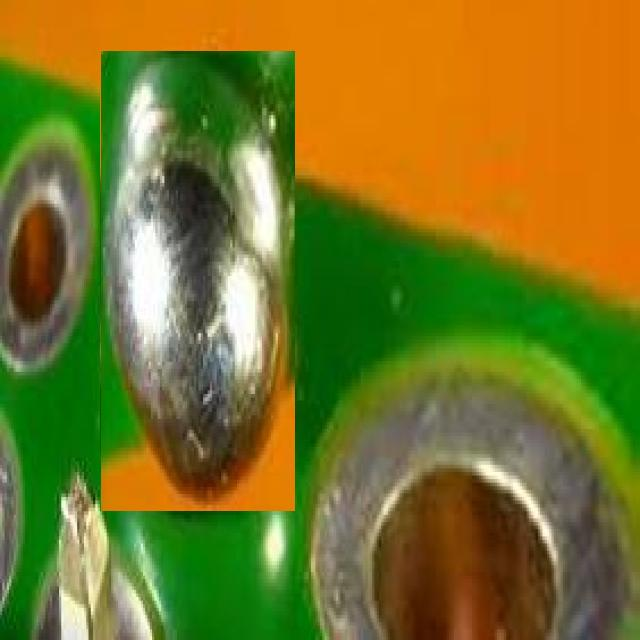slug: (100, 50, 295, 511)
